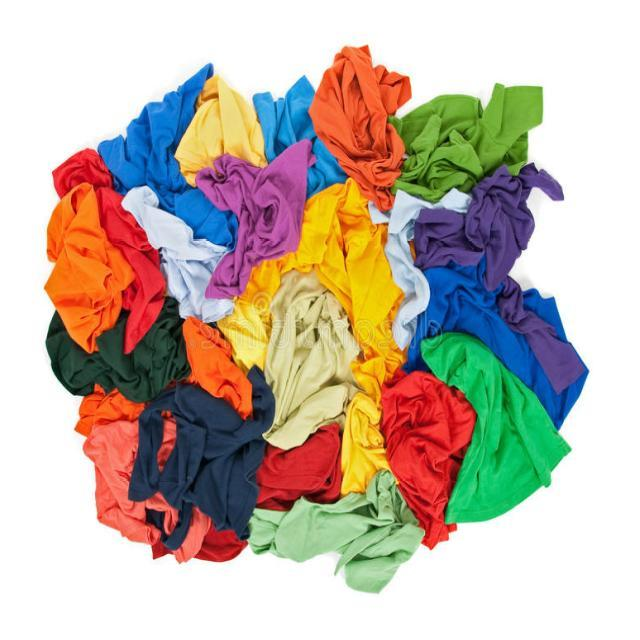clothes: (62, 112, 524, 582)
